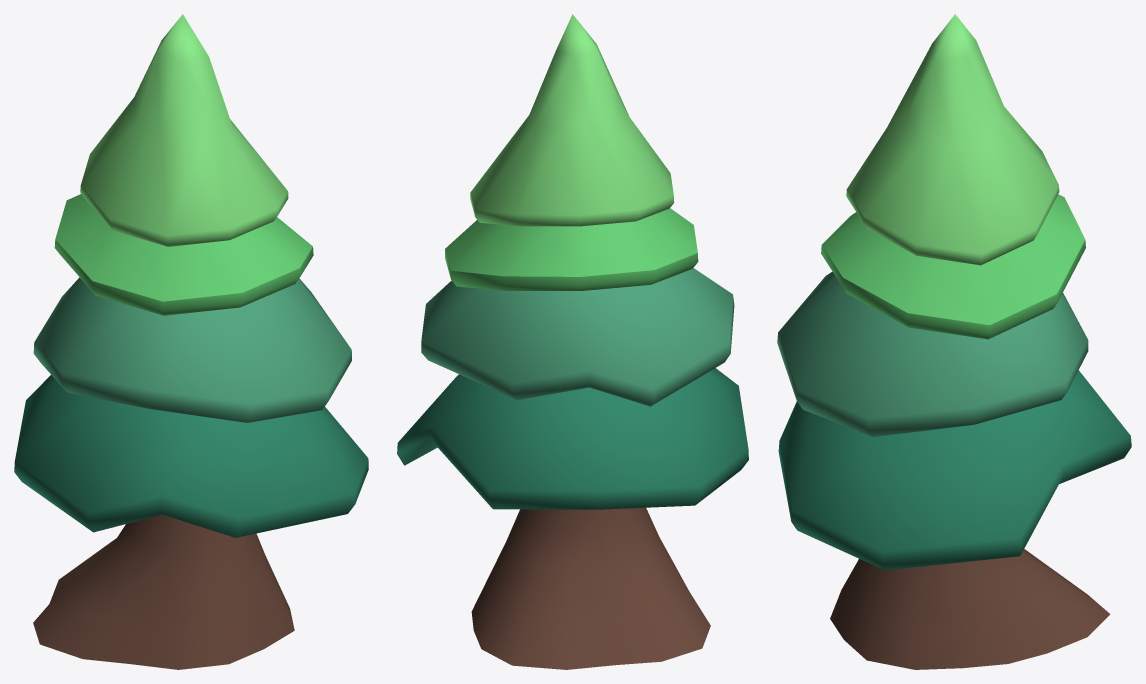
File: StylizedTree2.fbx
3 renders of one model, left to right at view 1: azimuth 30°, elevation 25°; view 2: azimuth 150°, elevation 25°; view 3: azimuth 270°, elevation 25°, orthographic. The views are drawn at different scales.
Visible parts, largest first — view 1: Icosphere, Icosphere.001, Cylinder, Icosphere.003, Icosphere.002; view 2: Icosphere, Icosphere.001, Cylinder, Icosphere.003, Icosphere.002; view 3: Icosphere, Icosphere.001, Icosphere.003, Cylinder, Icosphere.002.
Part boxes in pixels (x1,y1,x2,y2): Icosphere: [14, 375, 368, 537]; Icosphere.001: [33, 277, 351, 422]; Cylinder: [33, 514, 294, 669]; Icosphere.003: [80, 14, 288, 246]; Icosphere.002: [54, 194, 313, 315]; Icosphere: [397, 368, 748, 509]; Icosphere.001: [421, 268, 734, 406]; Cylinder: [471, 507, 710, 669]; Icosphere.003: [470, 14, 674, 226]; Icosphere.002: [445, 208, 698, 290]; Icosphere: [778, 370, 1131, 570]; Icosphere.001: [777, 271, 1088, 436]; Icosphere.003: [846, 14, 1059, 265]; Cylinder: [830, 549, 1110, 669]; Icosphere.002: [821, 194, 1085, 339].
Bounding box in the file's own units: 349 × 670 × 352.
